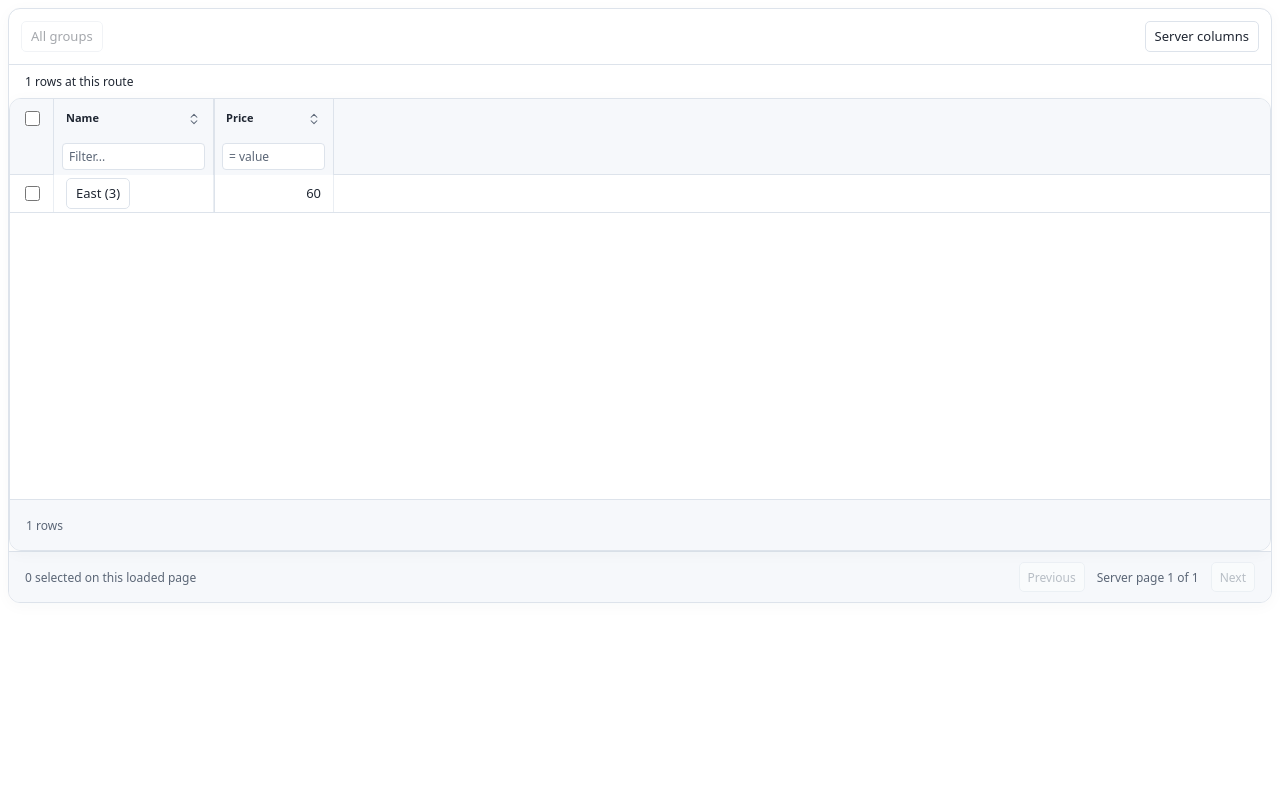
Test: server-authoritative React block binding › loads roots, drills group routes, pages provider blocks and navigates breadcrumbs
The width and height of the screenshot is (1280, 800).
Expected: the button with aria-label "Open group East" is shown, [66,178,130,209]
Expected: the text "1 rows at this route" is shown, [25,73,133,90]
Right-click the button with aria-label "Sort Name" at (134, 118), box [54,99,213,137]
Click the button with aria-label "Open group East" at (98, 194), box [66,178,130,209]
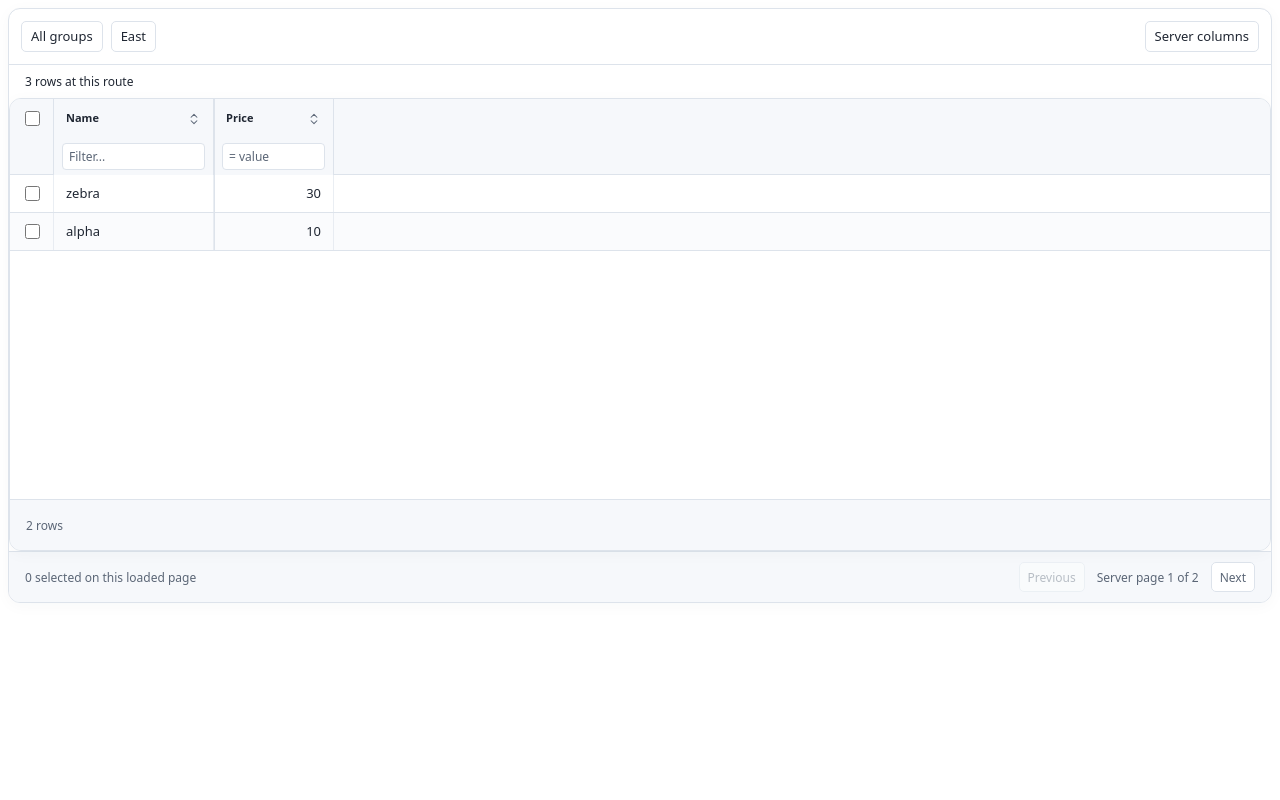
Expected: the cell "zebra" is shown, [54,175,214,212]
Expected: the text "Server page 1 of 2" is shown, [1097,569,1199,586]
Click the button with aria-label "Next server page" at (1233, 577), box [1211,562,1255,592]
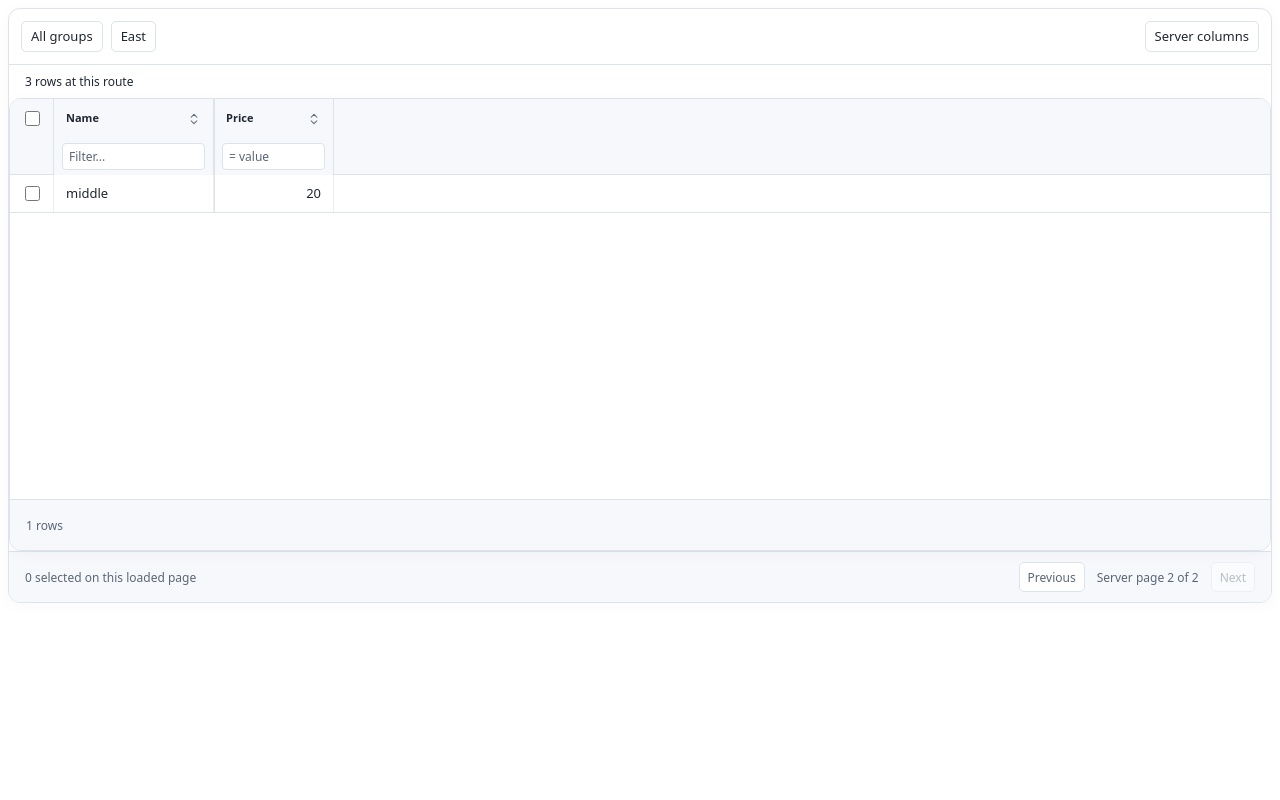
Expected: the cell "middle" is shown, [54,175,214,212]
Expected: the text "Server page 2 of 2" is shown, [1097,569,1199,586]
Click the button "All groups" at (62, 36), box [21,21,103,52]
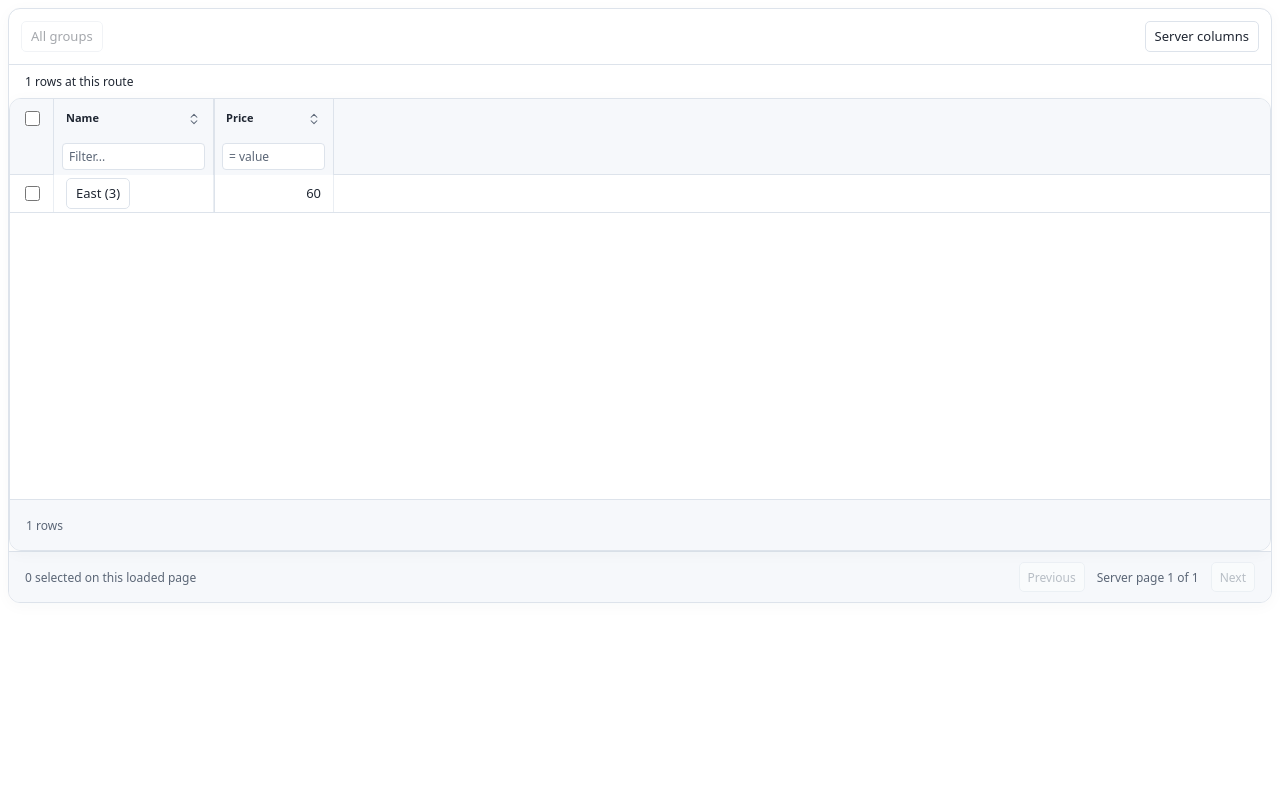
Expected: the button with aria-label "Next server page" is disabled, [1211,562,1255,592]
Expected: the button with aria-label "Open group East" is shown, [66,178,130,209]
